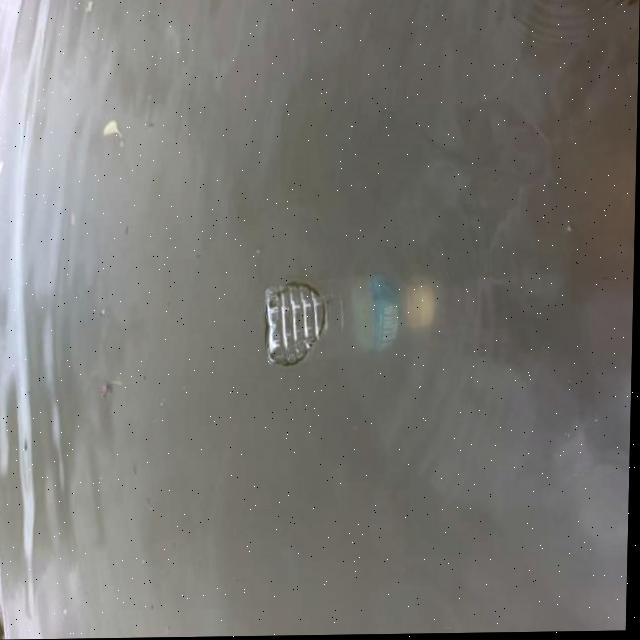waterbottle: (256, 253, 454, 380)
